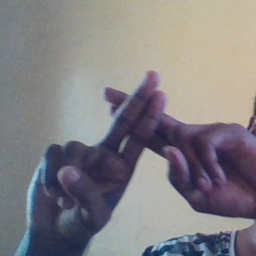F: (62, 62, 222, 194)
